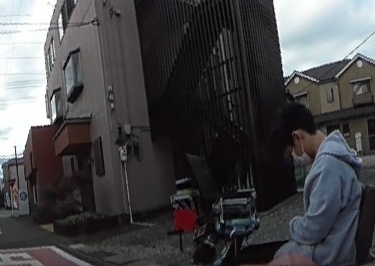person: (262, 99, 365, 266)
